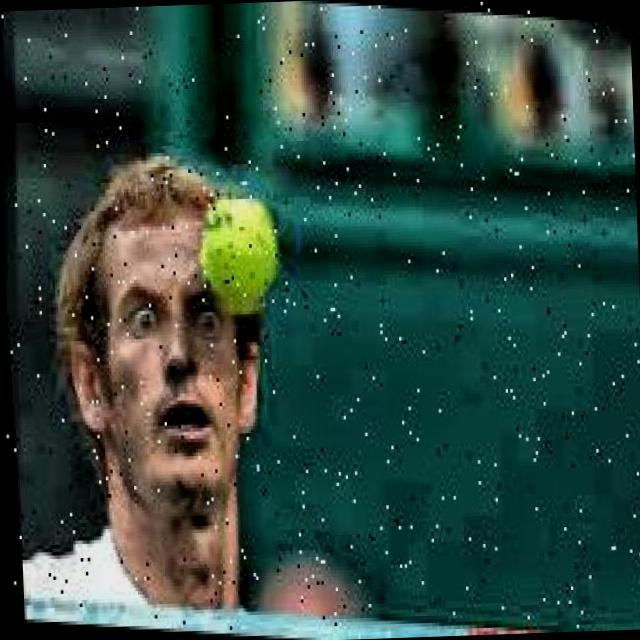Tennis Ball: (196, 195, 282, 318)
